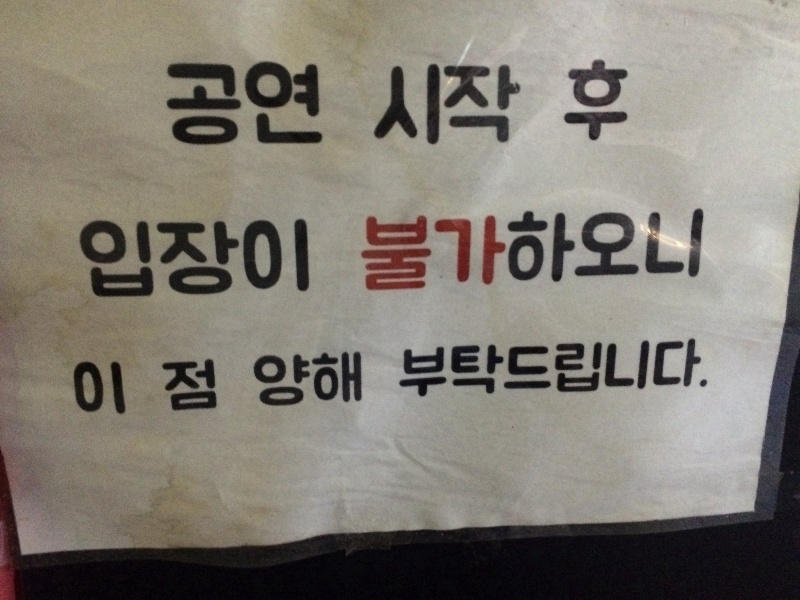text: (161, 51, 176, 163), (177, 51, 192, 163), (193, 51, 208, 163), (209, 51, 224, 163), (225, 51, 240, 163), (241, 51, 256, 163), (257, 51, 272, 163), (273, 51, 288, 163), (289, 51, 304, 163), (305, 51, 320, 163), (321, 51, 336, 163), (369, 204, 384, 303), (385, 204, 400, 303), (401, 204, 416, 303), (417, 204, 432, 303), (433, 204, 448, 303), (449, 204, 464, 303), (465, 204, 480, 303), (481, 204, 496, 303), (497, 204, 512, 303), (513, 204, 528, 303), (529, 204, 544, 303), (545, 204, 560, 303), (561, 204, 576, 303), (577, 204, 592, 303), (593, 204, 608, 303), (609, 204, 624, 303), (625, 204, 640, 303), (641, 204, 656, 303), (657, 204, 672, 303), (673, 204, 688, 303), (689, 204, 704, 303), (577, 59, 592, 146), (593, 59, 608, 146), (609, 59, 624, 146), (385, 61, 400, 146), (401, 61, 416, 146), (417, 61, 432, 146), (433, 61, 448, 146), (449, 61, 464, 146), (465, 61, 480, 146), (481, 61, 496, 146), (497, 61, 512, 146), (81, 215, 96, 300), (97, 215, 112, 300), (113, 215, 128, 300), (129, 215, 144, 300), (145, 215, 160, 300), (161, 215, 176, 300), (177, 215, 192, 300), (193, 215, 208, 300), (209, 215, 224, 300), (225, 215, 240, 300), (241, 215, 256, 300), (257, 215, 272, 300), (273, 215, 288, 300), (289, 215, 304, 300), (705, 204, 717, 303), (401, 331, 416, 406), (417, 331, 432, 406), (433, 331, 448, 406), (449, 331, 464, 406), (465, 331, 480, 406), (481, 331, 496, 406), (497, 331, 512, 406), (513, 331, 528, 406), (529, 331, 544, 406), (545, 331, 560, 406), (561, 331, 576, 406), (577, 331, 592, 406), (593, 331, 608, 406), (609, 331, 624, 406), (625, 331, 640, 406), (641, 331, 656, 406), (657, 331, 672, 406), (673, 331, 688, 406), (689, 331, 704, 406), (705, 331, 720, 406), (65, 354, 80, 426), (81, 354, 96, 426), (97, 354, 112, 426), (113, 354, 128, 426), (353, 348, 369, 414), (564, 59, 576, 146), (337, 51, 346, 163), (257, 348, 272, 414), (273, 348, 288, 414), (289, 348, 304, 414), (305, 348, 320, 414), (321, 348, 336, 414), (337, 348, 352, 414), (161, 352, 176, 417), (177, 352, 192, 417), (193, 352, 208, 417), (513, 61, 524, 146), (359, 204, 368, 303), (209, 352, 222, 417), (153, 51, 160, 163), (625, 59, 632, 146), (377, 61, 384, 146), (305, 215, 312, 300), (247, 348, 256, 414), (151, 352, 160, 417), (394, 331, 400, 406), (129, 354, 134, 426), (60, 354, 64, 426), (77, 215, 80, 300)
